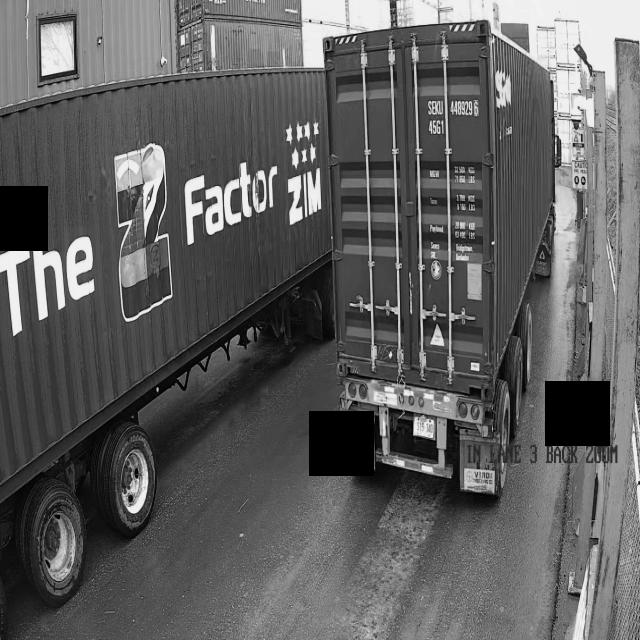container_number: (424, 98, 484, 146)
license_plate: (410, 412, 438, 439)
other_container_info: (417, 156, 489, 267)
truck_with_container: (0, 70, 333, 606), (324, 20, 556, 498)
